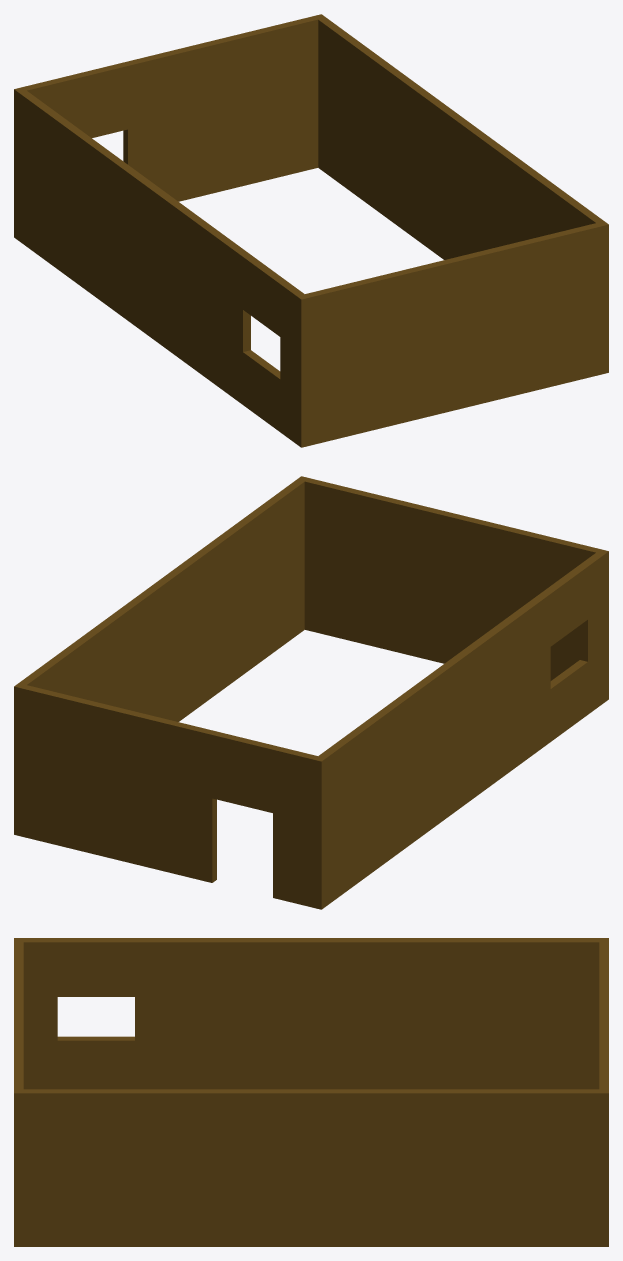
File: walls.fbx
3 views of the same model, one above another, from view 1: azimuth 30°, elevation 25°; view 2: azimuth 150°, elevation 25°; view 3: azimuth 270°, elevation 25° (orthographic). The views are drawn at different scales.
Visible parts, largest first — view 1: walls; view 2: walls; view 3: walls.
Part boxes in pixels (box(x1,y1,x2,y2)): walls: box(14, 14, 608, 447); walls: box(14, 476, 608, 909); walls: box(14, 938, 608, 1246).
Bounding box in the file's own units: 760 × 1230 × 350.
